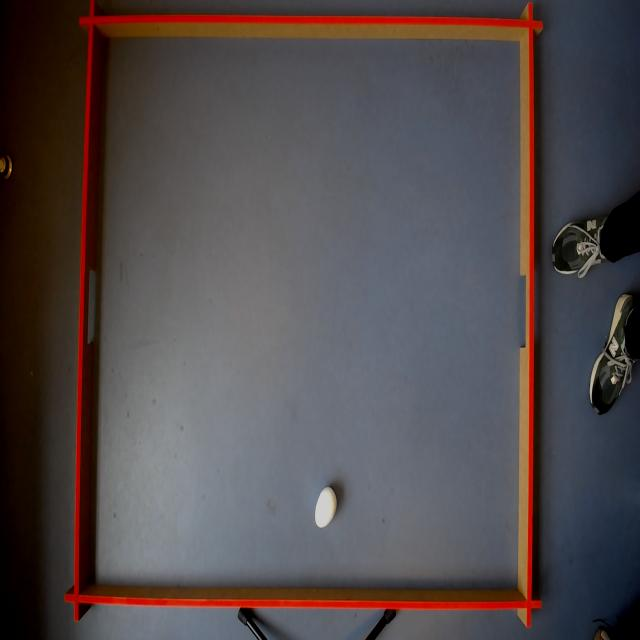egg: (313, 485, 338, 530)
